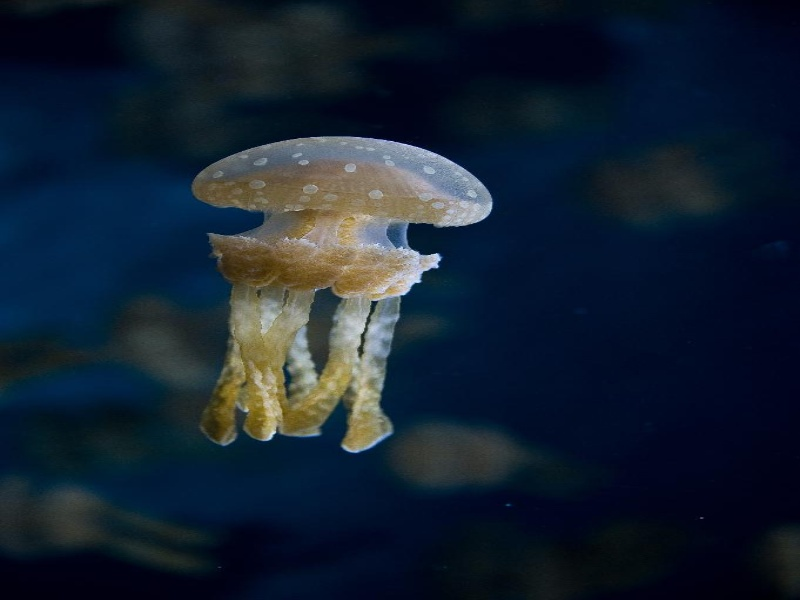Jellyfish: (186, 131, 492, 451)
